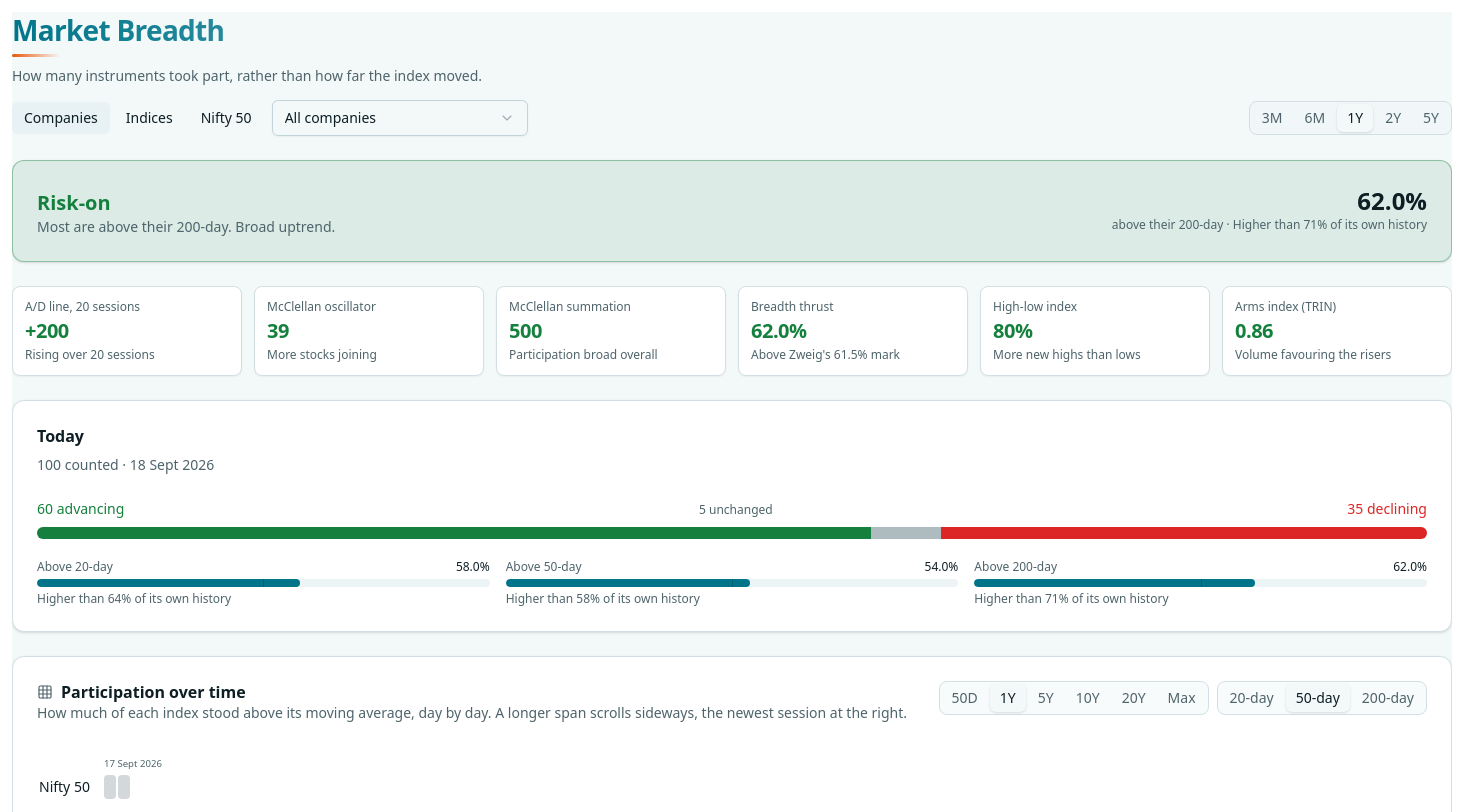
Test: Breadth › colours each session against the average chosen
This screenshot has width=1464, height=812.
Expected: the cell named "Nifty 50, 18 Sept 2026: 55% above the 50-day average" is shown, [118,775,130,799]
Step 1. Click the button "200-day" → (1388, 698), box [1352,684,1424,712]
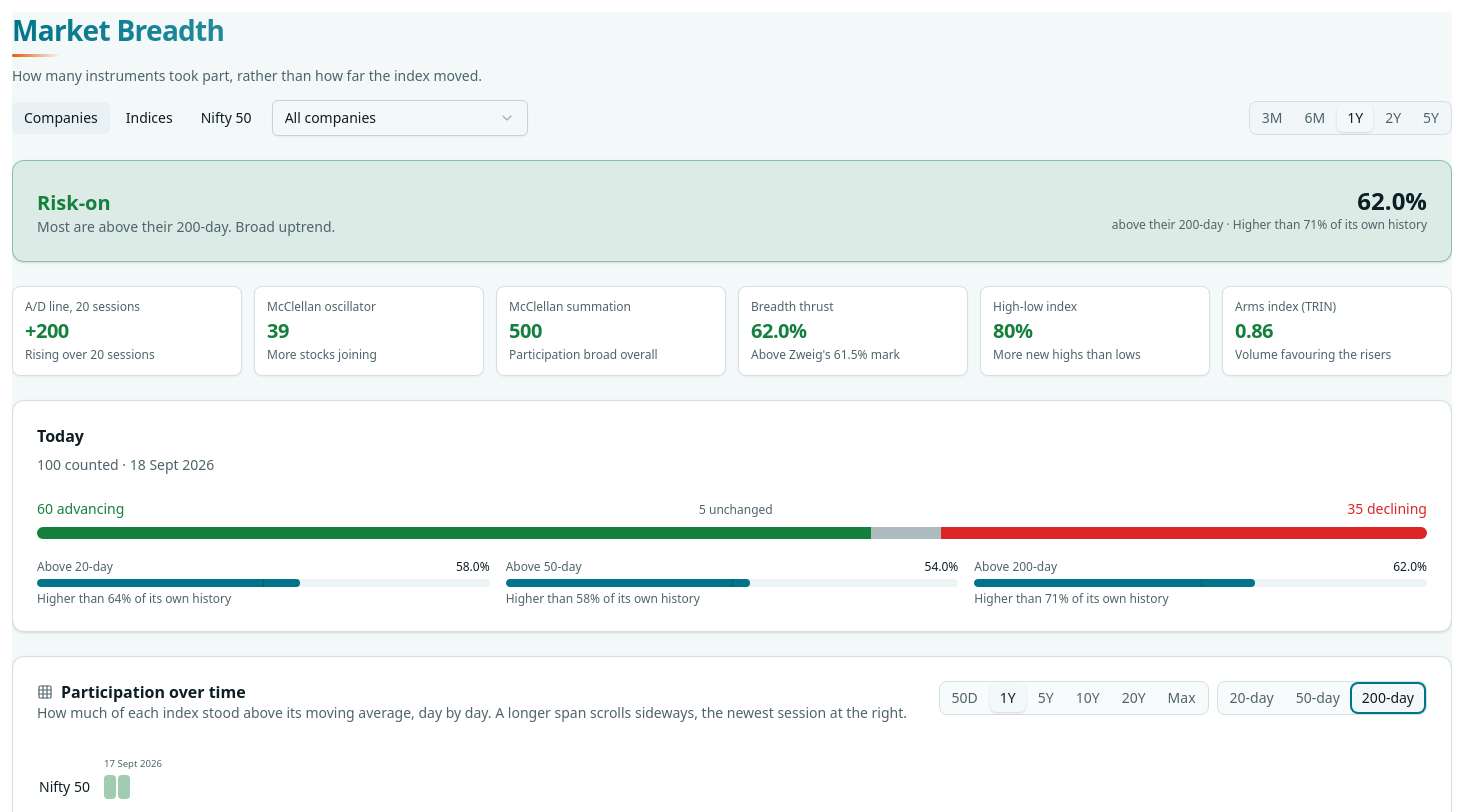
Now the cell named "Nifty 50, 18 Sept 2026: 62% above the 200-day average" is shown, box [118,775,130,799]
